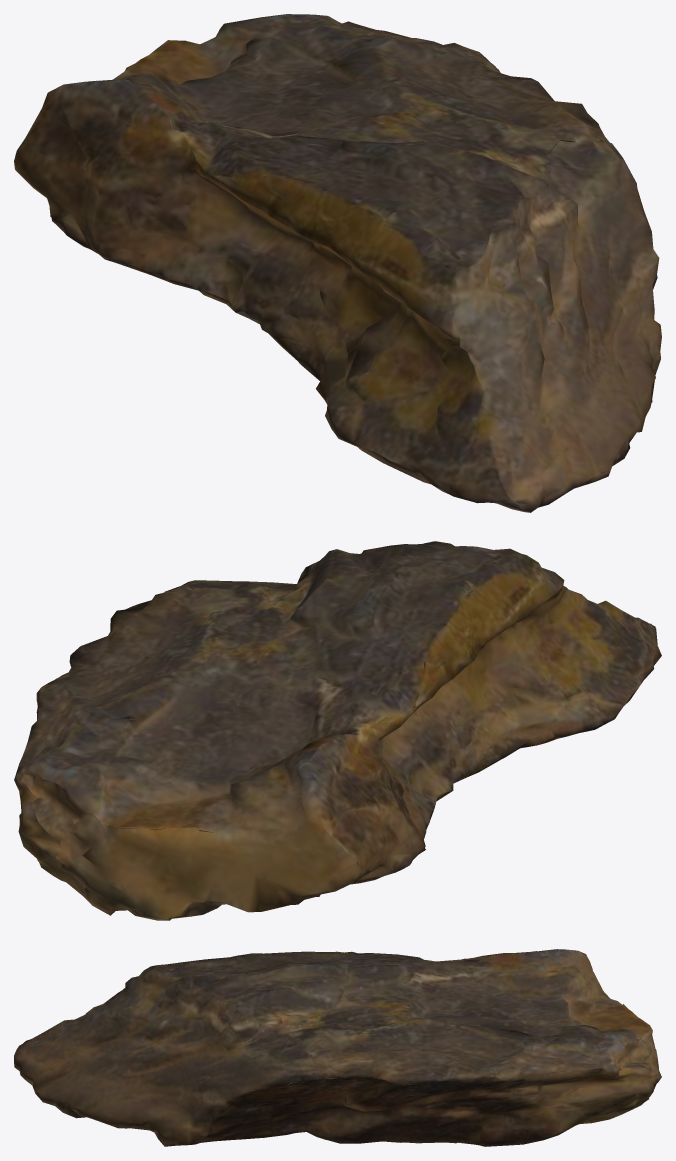
File: rock_09.glb
The picture shows the model from 3 angles, top to bottom: view 1: azimuth 30°, elevation 25°; view 2: azimuth 150°, elevation 25°; view 3: azimuth 270°, elevation 25°; orthographic projection. The views are drawn at different scales.
Visible parts, largest first — view 1: rock_09_LOD0; view 2: rock_09_LOD0; view 3: rock_09_LOD0.
Part boxes in pixels (x1,y1,x2,y2): rock_09_LOD0: (14,14,661,512); rock_09_LOD0: (14,541,661,920); rock_09_LOD0: (14,949,661,1146).
Bounding box in the file's own units: 0.0739 × 0.0329 × 0.1447.
1 material, 1 textured.
